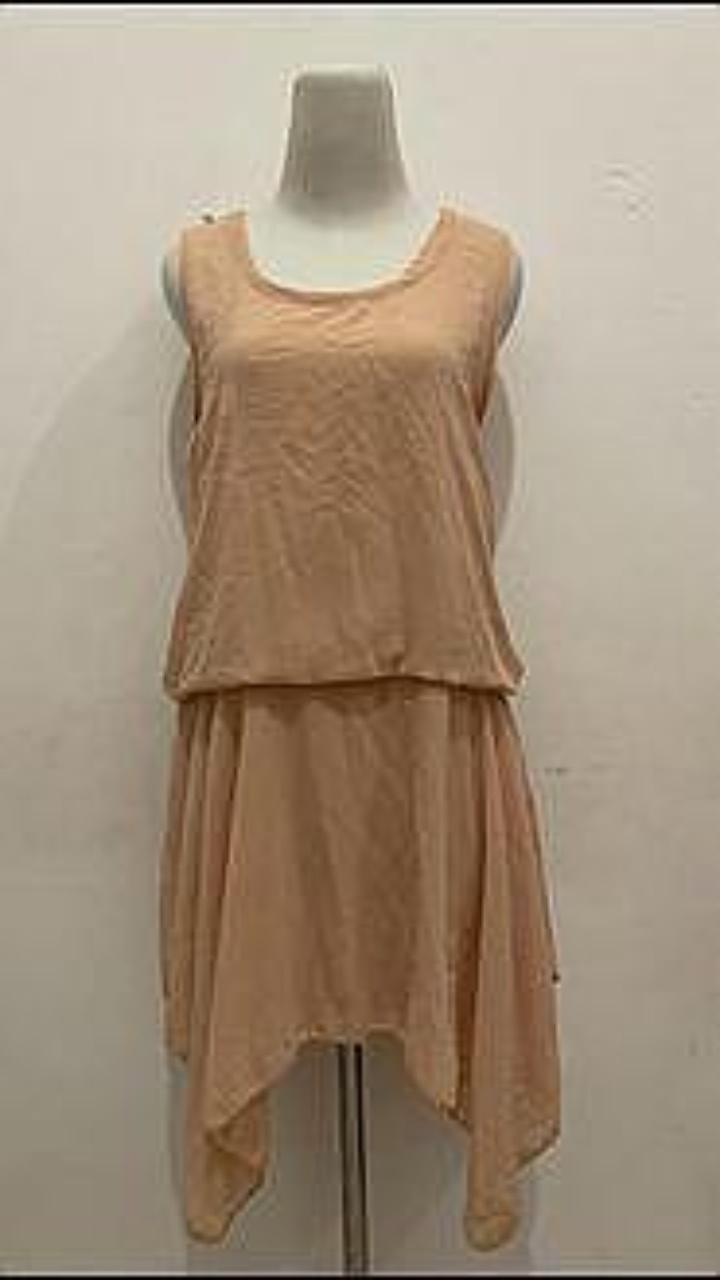Dresses: (162, 207, 559, 1248)
